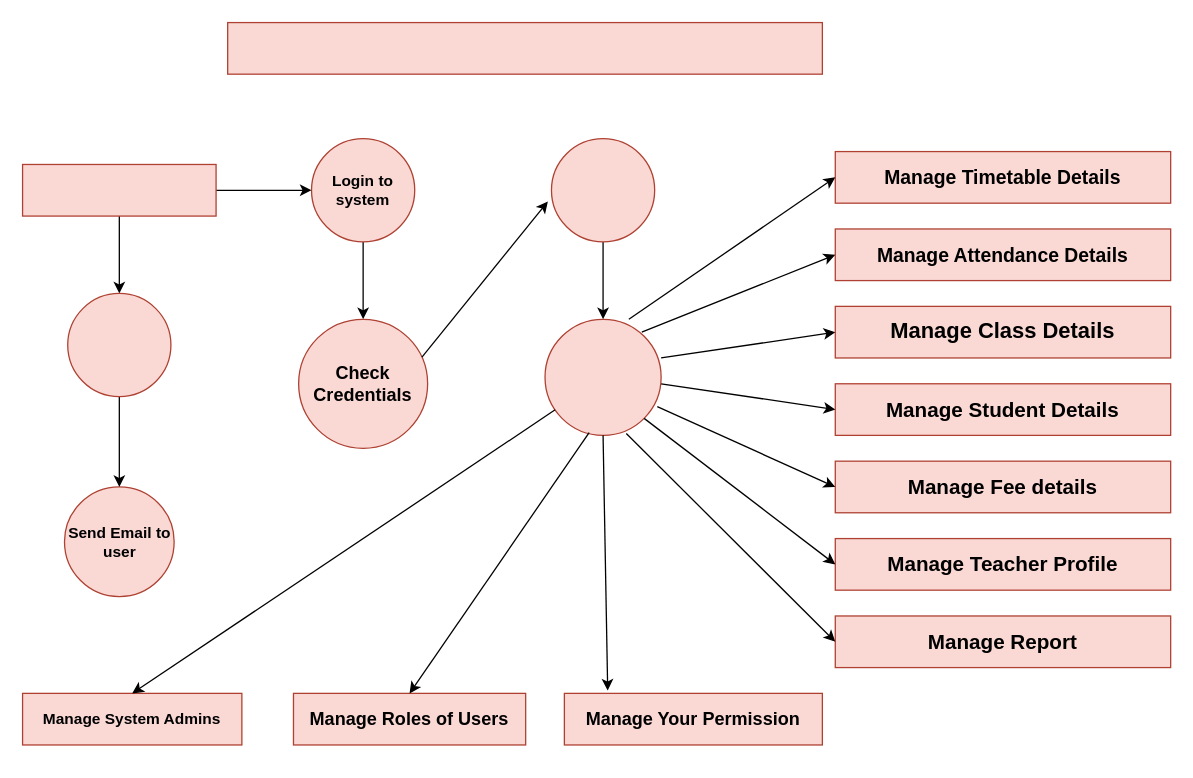
This 1193x778 diagram has some shape labels left out. The shapes that lost their labels are listed below. From the top down, each one's box as (x1, y1, x2, y2) in pixels, then its label:
(226, 21, 822, 74): S tudent Information System
(21, 163, 216, 216): Admin
(550, 137, 655, 242): Check Roles of Access
(66, 292, 171, 397): Forgot Password
(544, 318, 661, 435): Manage Modules
